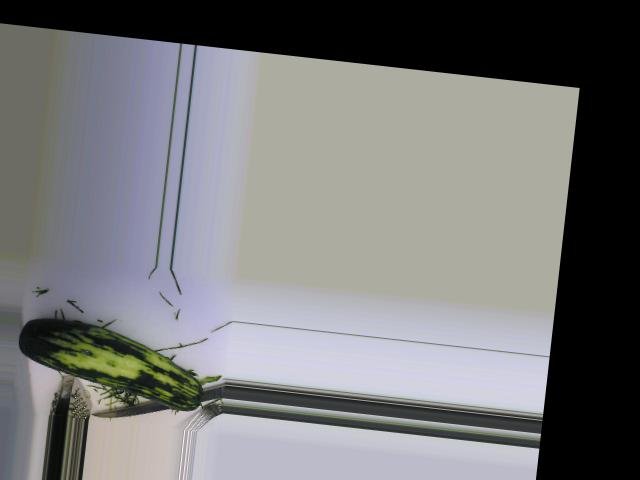cucumber: (13, 314, 210, 413)
